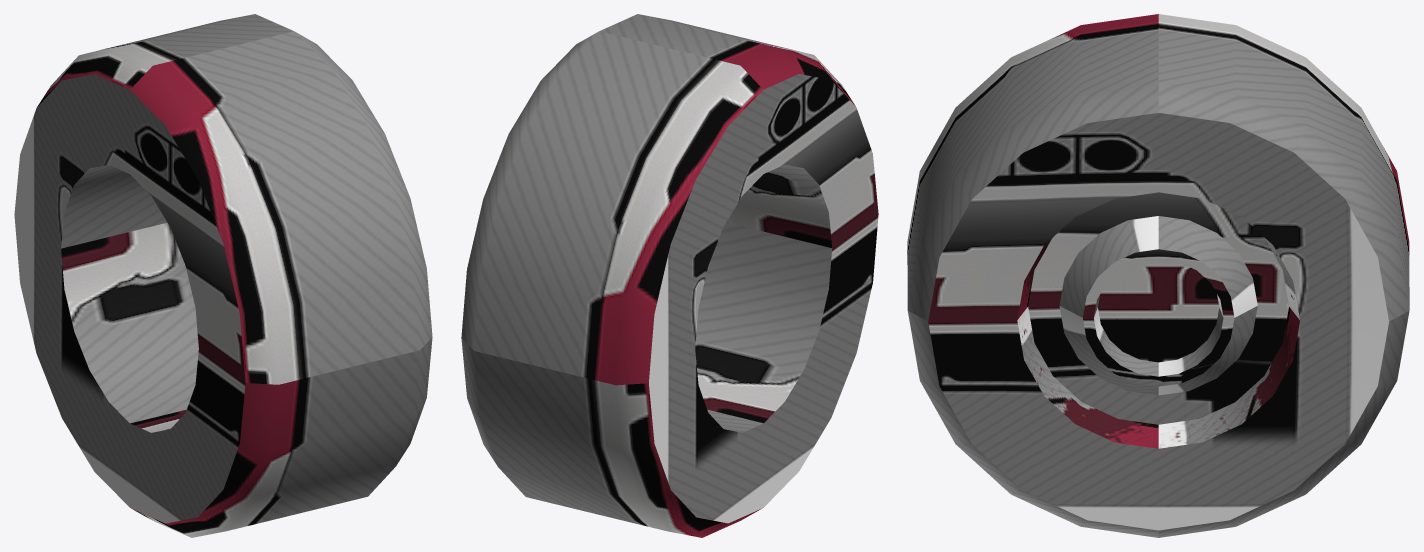
The model's file is TruckTire.fbx.
3 renders of one model, left to right at view 1: azimuth 30°, elevation 25°; view 2: azimuth 150°, elevation 25°; view 3: azimuth 270°, elevation 25°, orthographic.
Visible parts, largest first — view 1: CoyoteTire_topleft_Mesh; view 2: CoyoteTire_topleft_Mesh; view 3: CoyoteTire_topleft_Mesh.
Boxes of the visible parts, bbox=[...] form: CoyoteTire_topleft_Mesh: bbox=[14, 14, 432, 537]; CoyoteTire_topleft_Mesh: bbox=[461, 14, 878, 537]; CoyoteTire_topleft_Mesh: bbox=[907, 14, 1409, 537].
Bounding box in the file's own units: 17.77 × 41.11 × 41.12.
